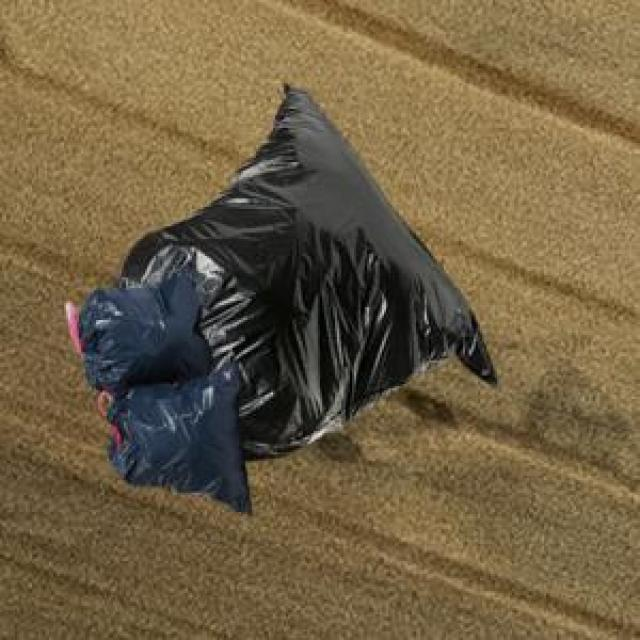waste: (66, 86, 498, 511)
